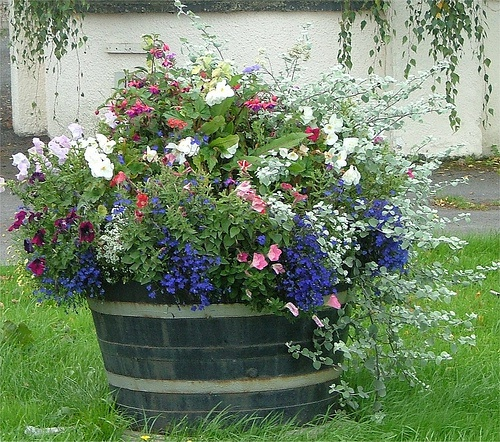flowerpot: (88, 270, 356, 428)
